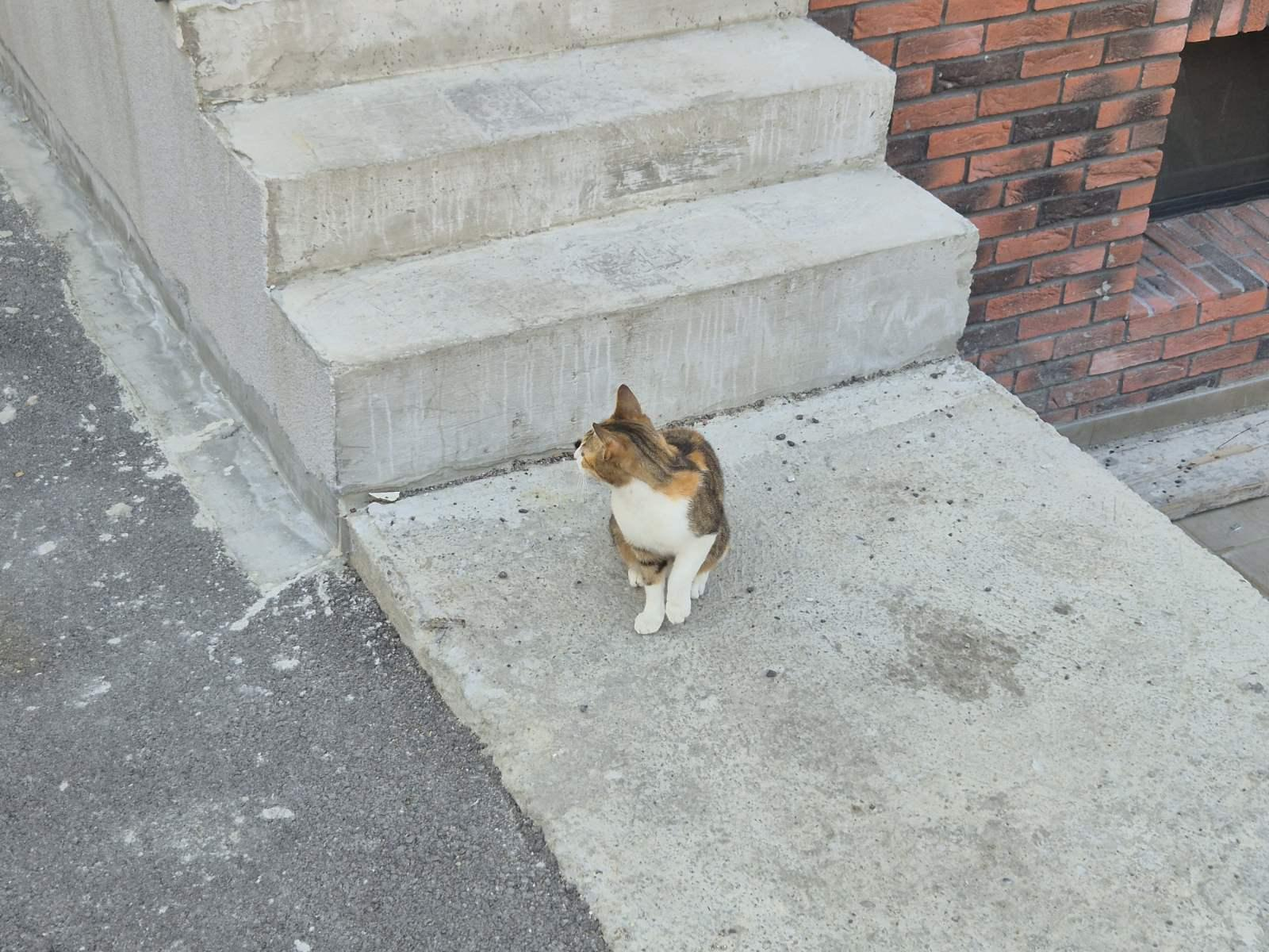macka: (574, 384, 731, 636)
